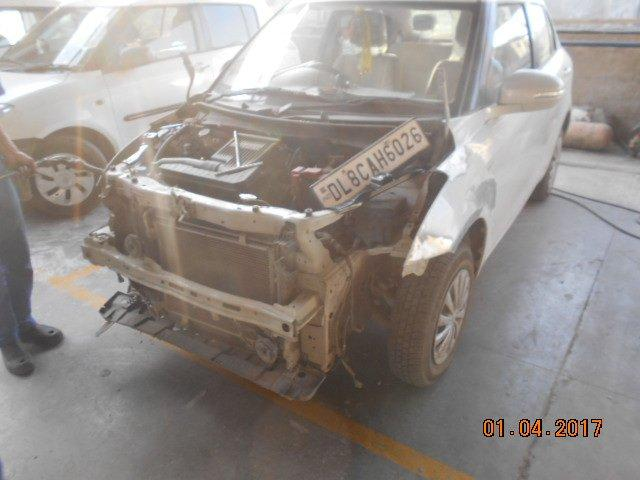Large_tear_or_damage: (84, 121, 473, 440)
